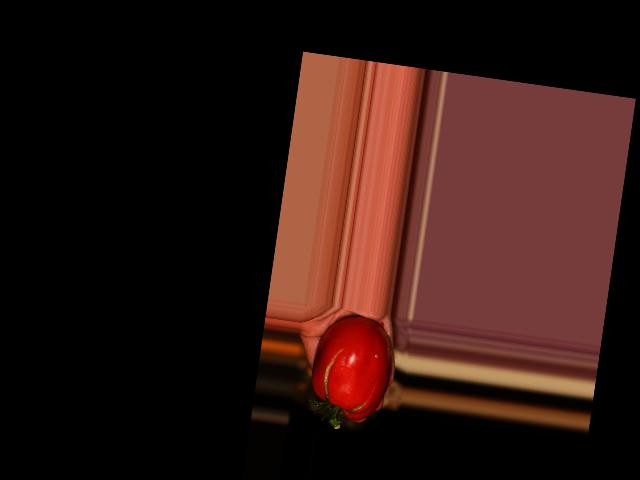tomato: (307, 311, 398, 425)
